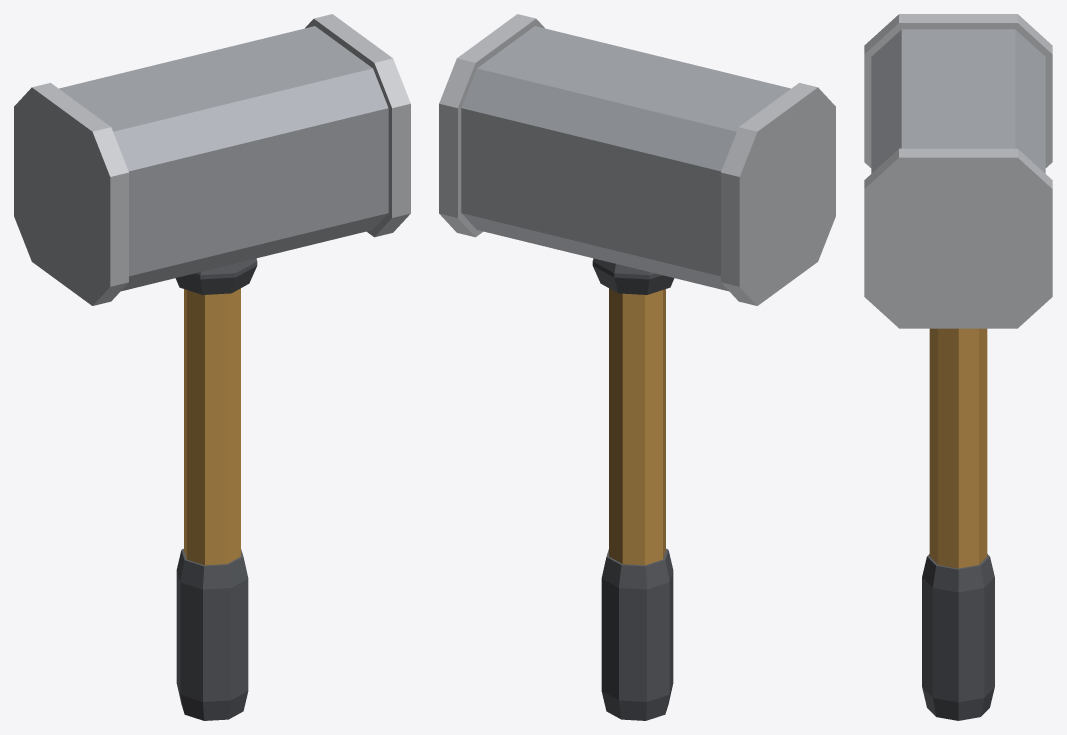
The model's file is CT_Rocks_Hammer.glb.
3 views of the same model, side by side, from view 1: azimuth 30°, elevation 25°; view 2: azimuth 150°, elevation 25°; view 3: azimuth 270°, elevation 25° (orthographic). The views are drawn at different scales.
Visible parts, largest first — view 1: CT_Rocks_Hammer; view 2: CT_Rocks_Hammer; view 3: CT_Rocks_Hammer.
Boxes of the visible parts, x1,y1,x2,y2 form: CT_Rocks_Hammer: (14, 14, 410, 720); CT_Rocks_Hammer: (439, 14, 835, 720); CT_Rocks_Hammer: (864, 14, 1052, 720).
Bounding box in the file's own units: 2.24 × 4.52 × 1.24.
